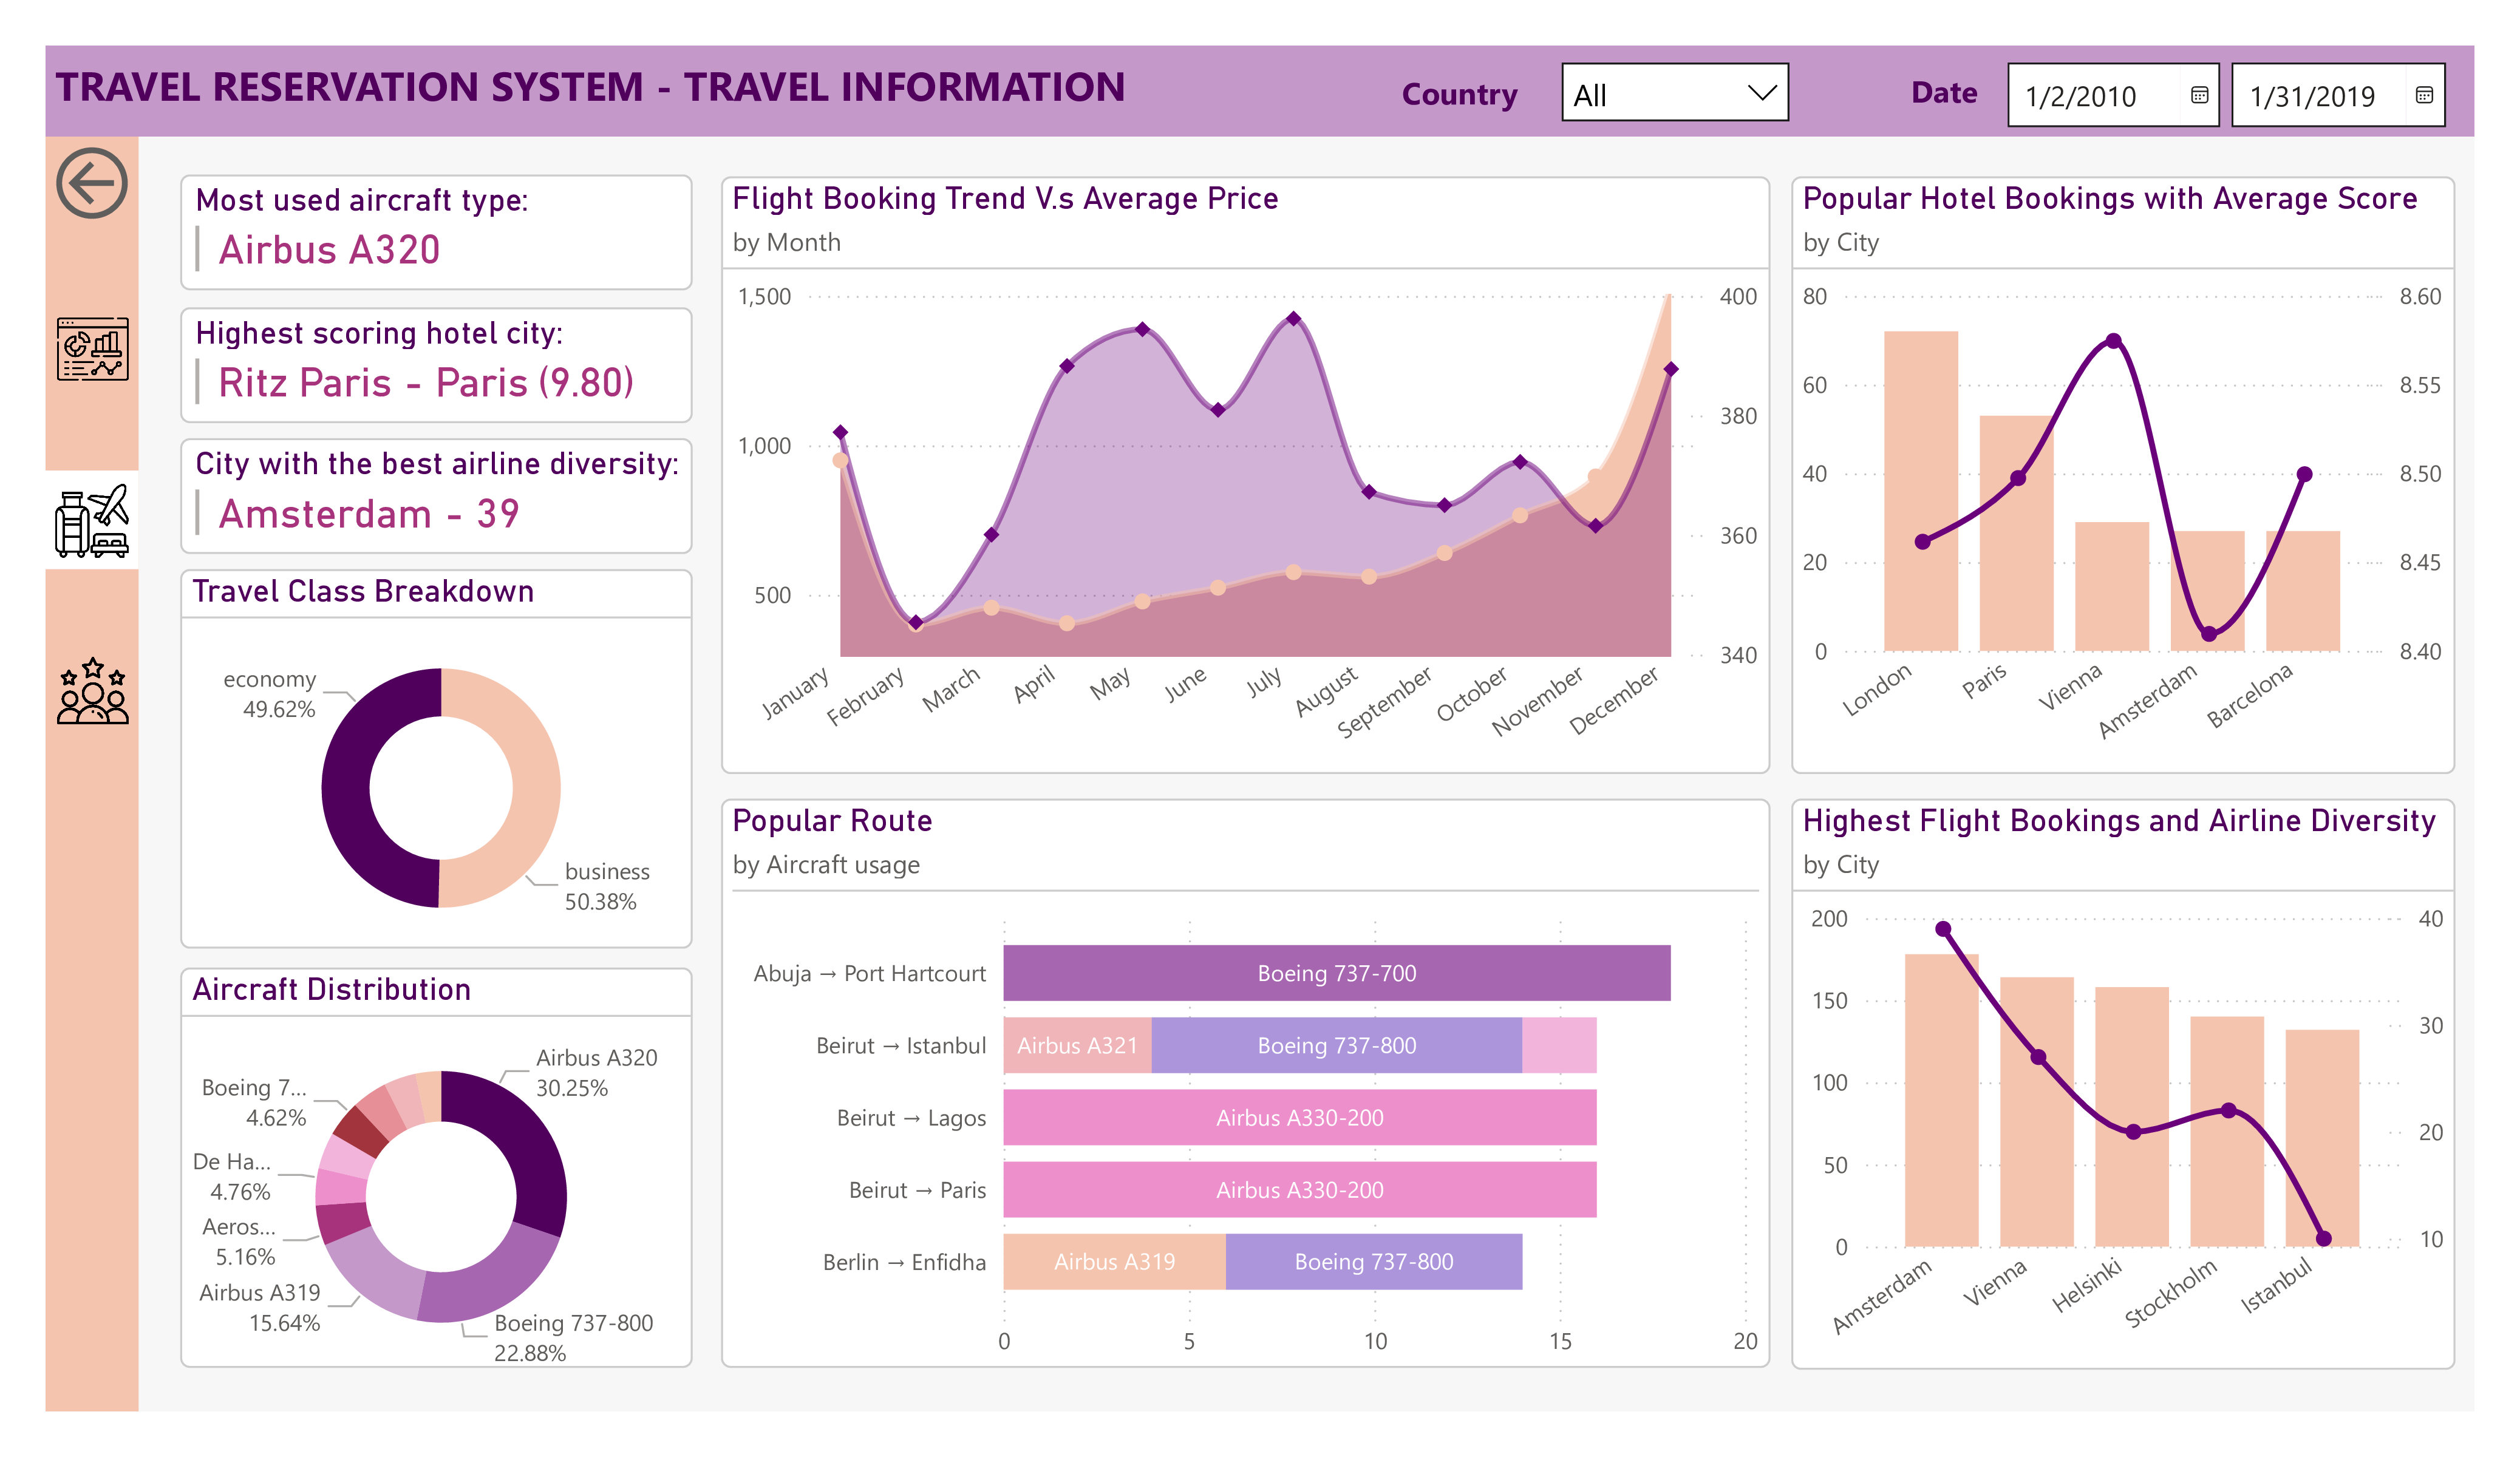

What the dashboard file says about the page in this screenshot:
{"tool":"powerbi","page":{"name":"Travel","canvas":[1280,720],"ordinal":1},"visuals":[{"type":"shape","box":[0,0,1280,48],"z":1000},{"type":"donutChart","title":"Aircraft Distribution","fields":{"Y":["CountNonNull(flight_bookings.trip_id)"],"Category":["flight_bookings.aircraft"],"Series":["aircrafts.aircraft_name"]},"box":[82.1,474.4,286.6,214.3],"z":2000},{"type":"lineClusteredColumnComboChart","fields":{"Y":["CountNonNull(flight_bookings.trip_id)"],"Category":["city.City"],"Y2":["Count(flight_bookings.airline_id)"]},"box":[865.4,396.5,384,292.2],"z":3000},{"type":"donutChart","title":"Travel Class Breakdown","fields":{"Category":["flight_bookings.travel_class"],"Y":["CountNonNull(flight_bookings.trip_id)"]},"box":[82.1,279.7,286.6,182.3],"z":5000},{"type":"lineClusteredColumnComboChart","fields":{"Category":["hotels.city"],"Y":["CountNonNull(hotel_bookings.trip_id)"],"Y2":["Avg(hotels.hotel_score)"]},"box":[865.4,68.2,384,310.3],"z":6000},{"type":"lineChart","title":"Monthly Booking Trend","fields":{"Y":["Count(flight_bookings.trip_id)"],"Category":["flight_bookings.departure_date.Variation.Date Hierarchy.Month"],"Y2":["Avg(flight_bookings.price)"]},"box":[384,68.2,455,276.9],"z":9000},{"type":"barChart","fields":{"Category":["flight_bookings.route_city_key"],"Y":["CountNonNull(flight_bookings.trip_id)"],"Series":["aircrafts.aircraft_name"]},"box":[384,360.3,455,328.3],"z":9002},{"type":"multiRowCard","title":"Most used aircraft type:","fields":{"Values":["aircrafts.aircraft_name"]},"box":[82.1,68.2,286.6,61.2],"z":9003}]}

Visuals, with their boxes on the page's 1280x720 design canvas (x1, y1, x2, y2). These are canvas units, not pixel positions in the 2520x1457 screenshot, which may show the page scaled, cropped or inside an application window:
shape: crop(0, 0, 1280, 48)
"Aircraft Distribution" donutChart: crop(82, 474, 369, 689)
lineClusteredColumnComboChart - CountNonNull(flight_bookings.trip_id) x city.City: crop(865, 396, 1249, 689)
"Travel Class Breakdown" donutChart: crop(82, 280, 369, 462)
lineClusteredColumnComboChart - hotels.city x CountNonNull(hotel_bookings.trip_id): crop(865, 68, 1249, 378)
"Monthly Booking Trend" lineChart: crop(384, 68, 839, 345)
barChart - flight_bookings.route_city_key x CountNonNull(flight_bookings.trip_id): crop(384, 360, 839, 689)
"Most used aircraft type:" multiRowCard: crop(82, 68, 369, 129)
